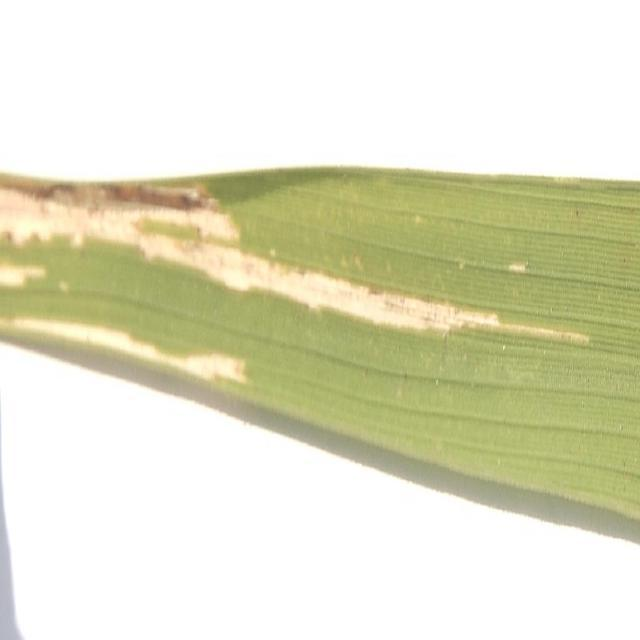Rice_Bacterial_Blight: (1, 135, 600, 421)
